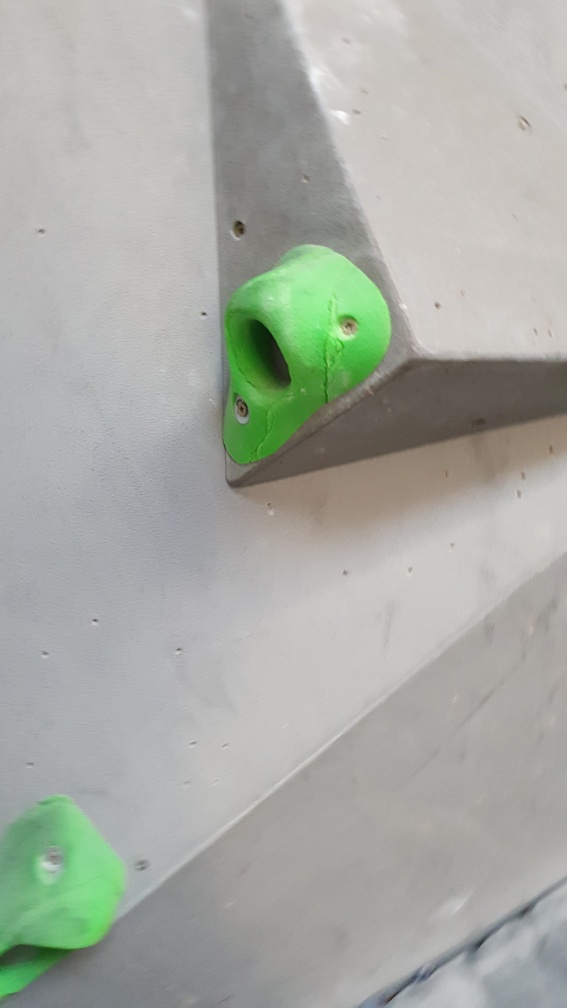Pocket: (219, 245, 394, 470)
